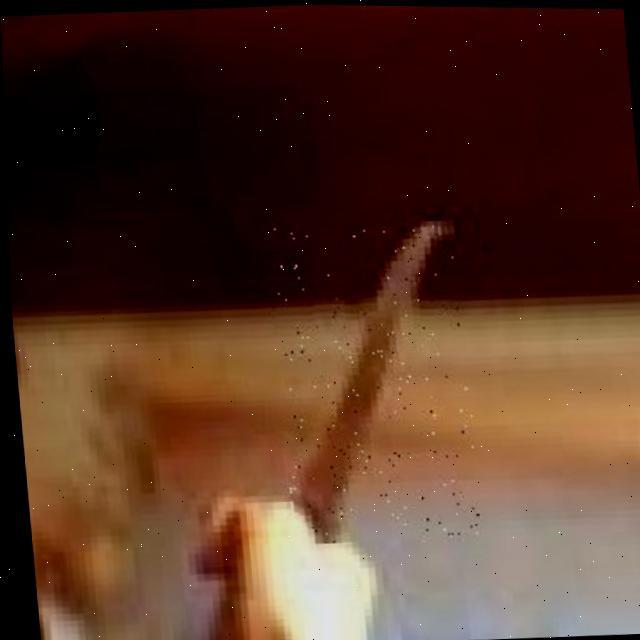knife: (263, 217, 478, 546)
